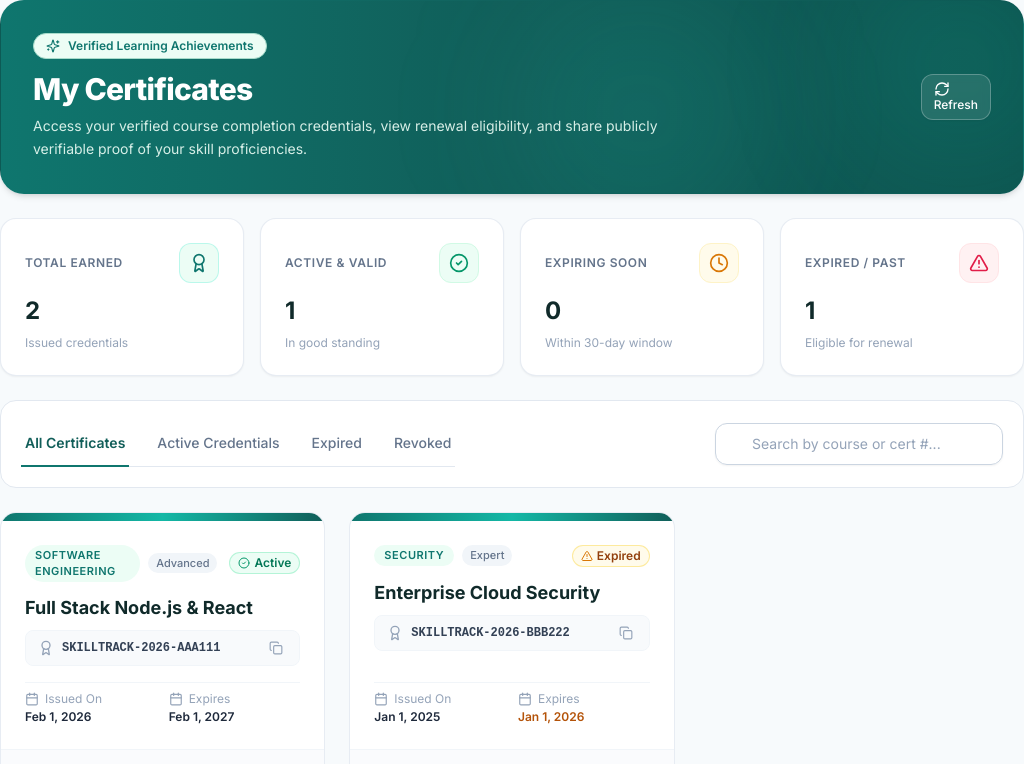
CertificatesPage › filters certificates by search query client-side
Check: the heading "Full Stack Node.js & React" is shown, box [25,596,253,618]
Check: the heading "Enterprise Cloud Security" is shown, box [374,582,600,602]
Type "Node.js" into the field with placeholder "Search by course or cert #..." at (859, 444), box [715,422,1003,464]
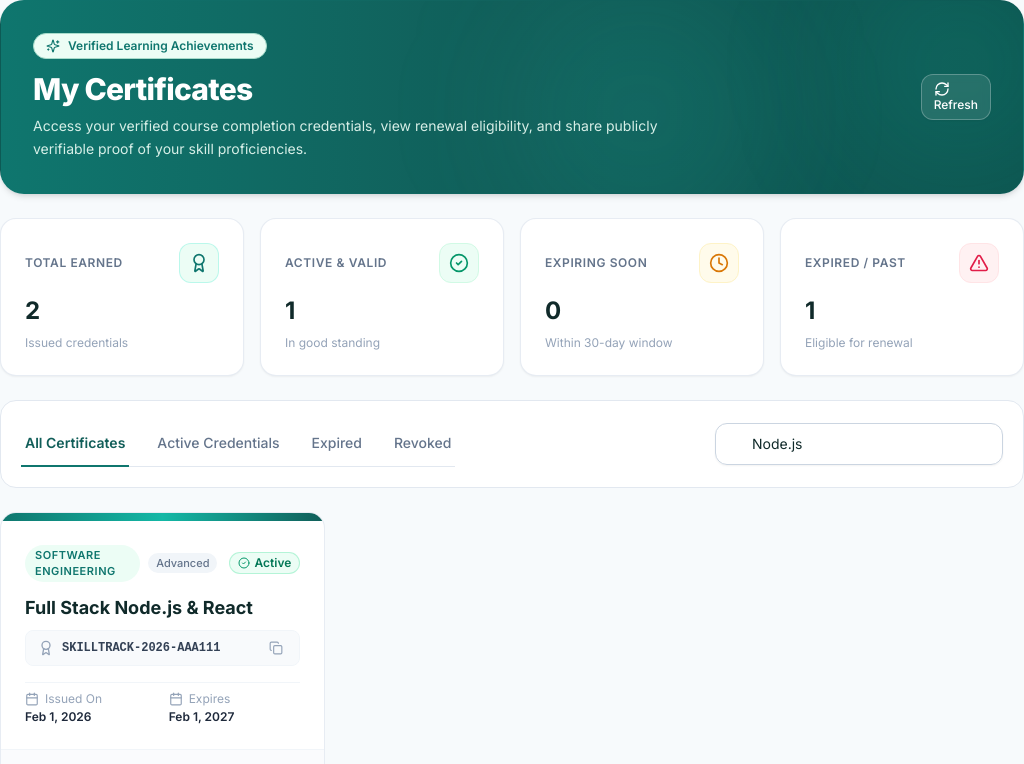
Check: the heading "Full Stack Node.js & React" is shown, box [25,596,253,618]
Check: the heading "Enterprise Cloud Security" is gone
